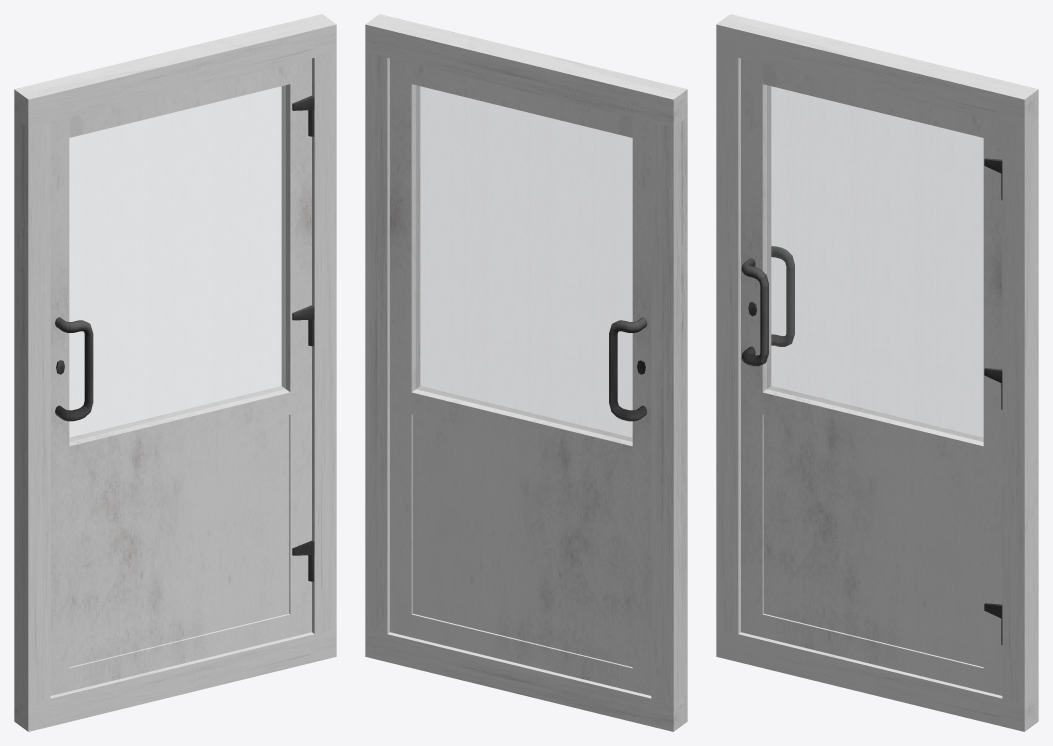
The model's file is white_door.gltf.
The picture shows the model from 3 angles, left to right: view 1: azimuth 30°, elevation 25°; view 2: azimuth 150°, elevation 25°; view 3: azimuth 330°, elevation 25°; orthographic projection.
Parts seen in each view (by area): view 1: Cube.015, Plane, Cube.010, Cylinder; view 2: Cube.015, Plane, Cube.010, Cylinder.017; view 3: Cube.015, Plane, Cube.010, Cylinder, Cylinder.017.
Boxes of the visible parts, <box> form: Cube.015: <box>50,58,311,695</box>; Plane: <box>69,85,285,441</box>; Cube.010: <box>14,14,336,731</box>; Cylinder: <box>55,317,93,421</box>; Cube.015: <box>390,58,651,695</box>; Plane: <box>416,85,632,441</box>; Cube.010: <box>365,14,687,731</box>; Cylinder.017: <box>609,317,647,421</box>; Cube.015: <box>741,58,1002,695</box>; Plane: <box>767,85,983,441</box>; Cube.010: <box>716,14,1038,731</box>; Cylinder: <box>741,258,768,366</box>; Cylinder.017: <box>771,246,794,346</box>.
Bounding box in the file's own units: 4.55 × 8.92 × 0.8015.
Materials: 2 (2 with a texture image).
